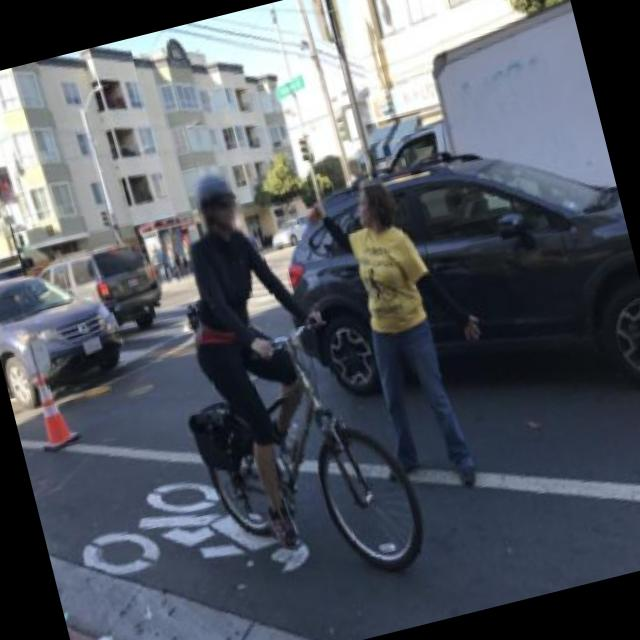With Helmet: (188, 165, 246, 244)
